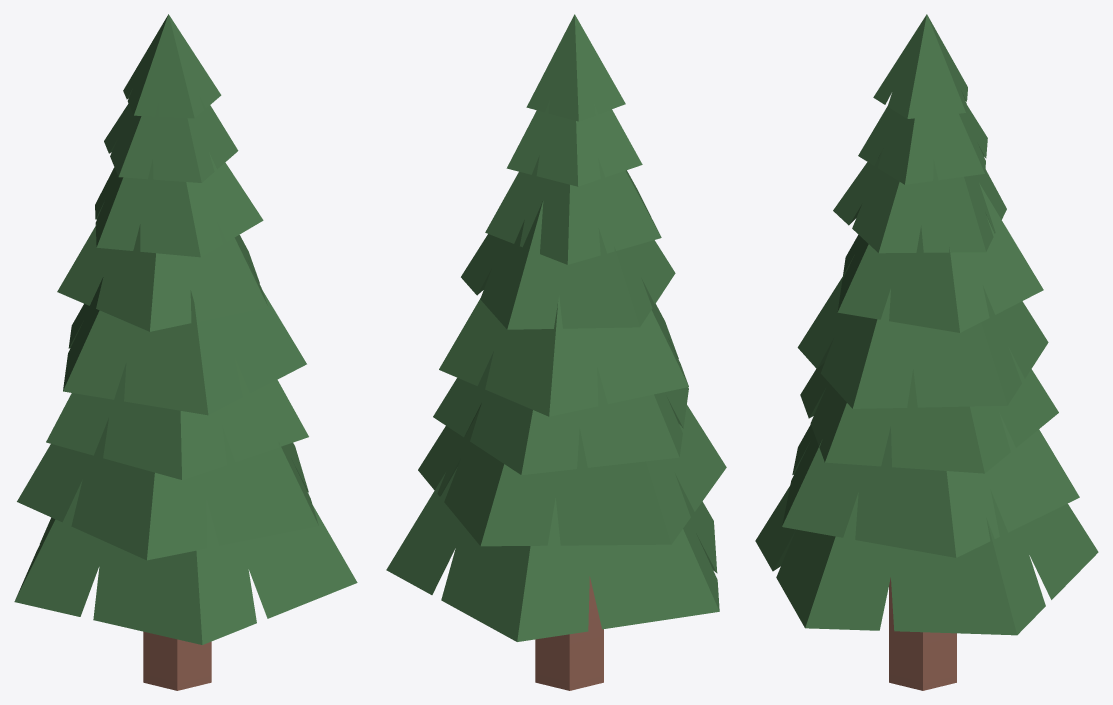
File: PineTreeNew.fbx
3 views of the same model, side by side, from view 1: azimuth 30°, elevation 25°; view 2: azimuth 150°, elevation 25°; view 3: azimuth 270°, elevation 25° (orthographic).
Parts seen in each view (by area): view 1: PineTree5; view 2: PineTree5; view 3: PineTree5.
Part boxes in pixels (x1,y1,x2,y2): PineTree5: [14, 14, 357, 690]; PineTree5: [386, 14, 726, 690]; PineTree5: [755, 14, 1098, 690].
Bounding box in the file's own units: 170 × 367 × 174.
